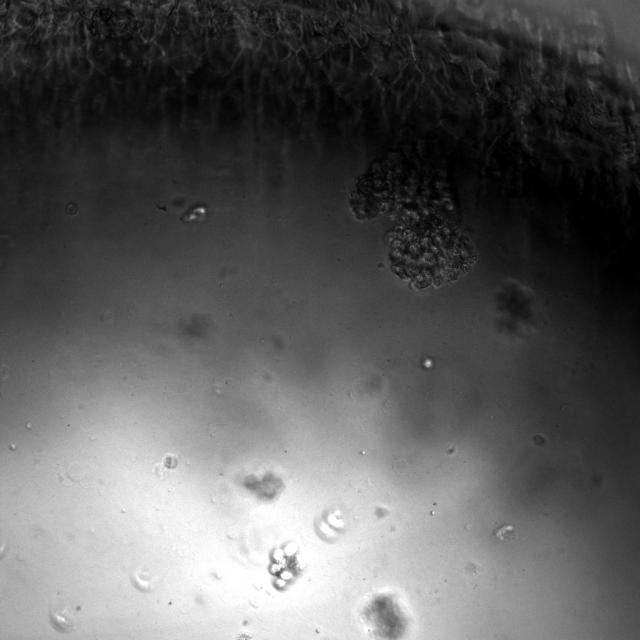organoid: (350, 152, 476, 287), (358, 587, 412, 639), (268, 540, 305, 590), (243, 470, 284, 500)
